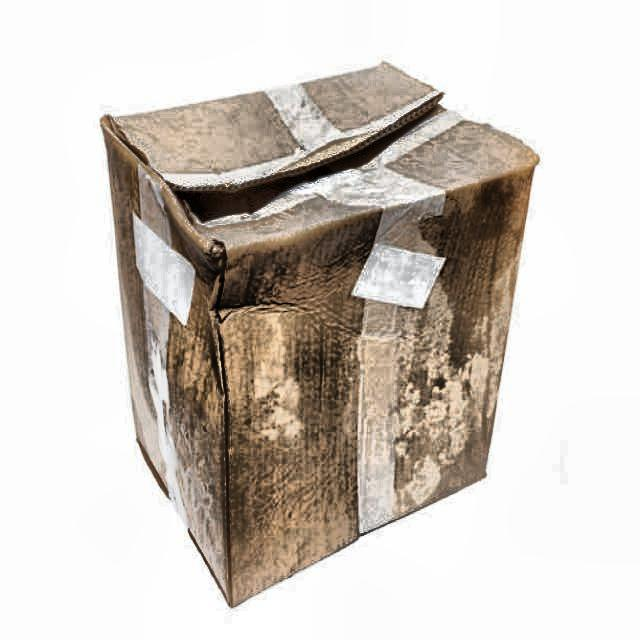plastic: (101, 61, 540, 611)
